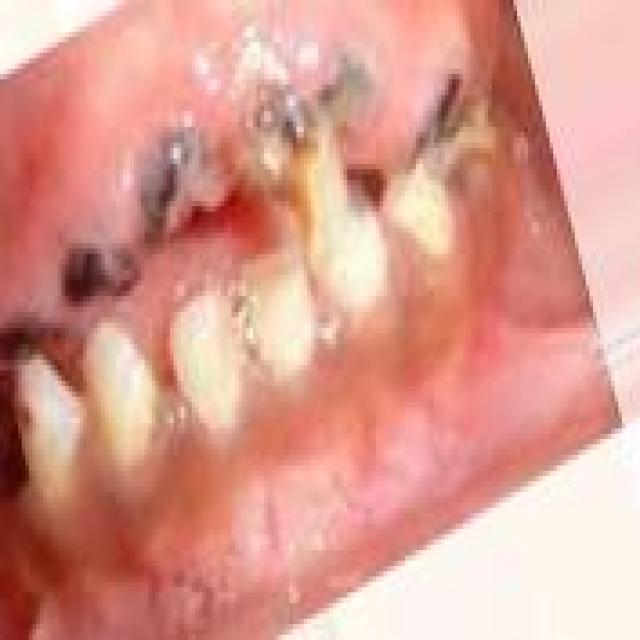caries: (234, 50, 355, 266), (139, 121, 233, 246), (400, 58, 489, 190), (51, 234, 146, 316), (0, 296, 61, 412)
